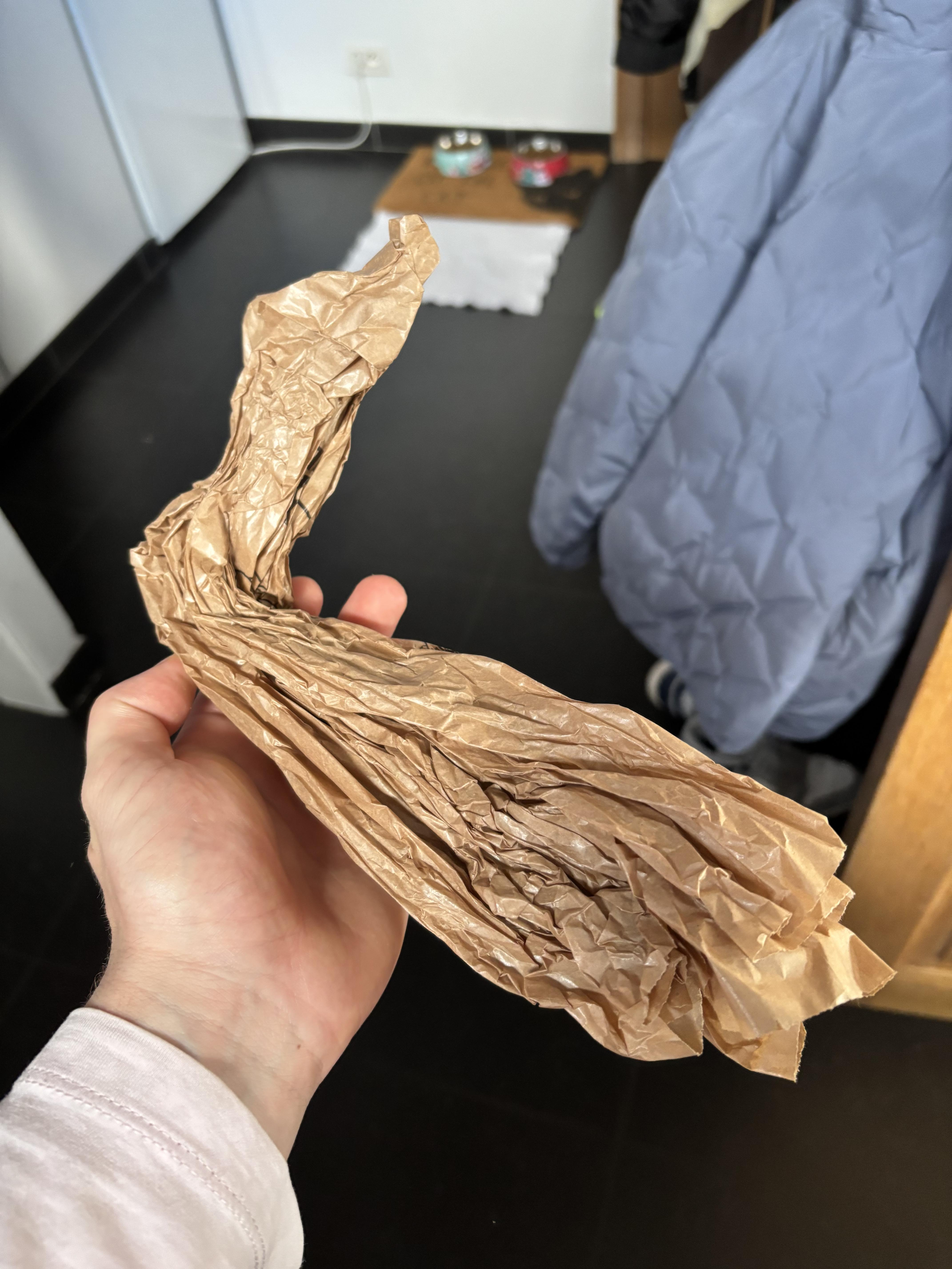Paper: (124, 202, 901, 1088)
